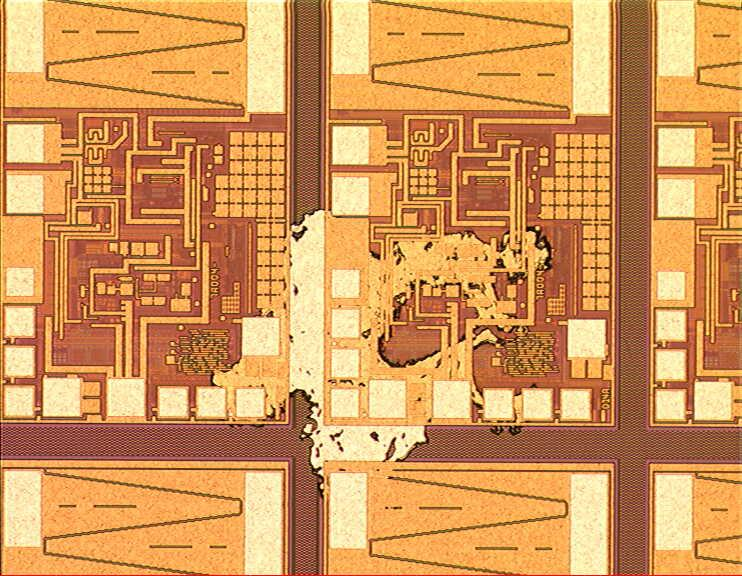BLOCK ETCH: (209, 206, 556, 496)
